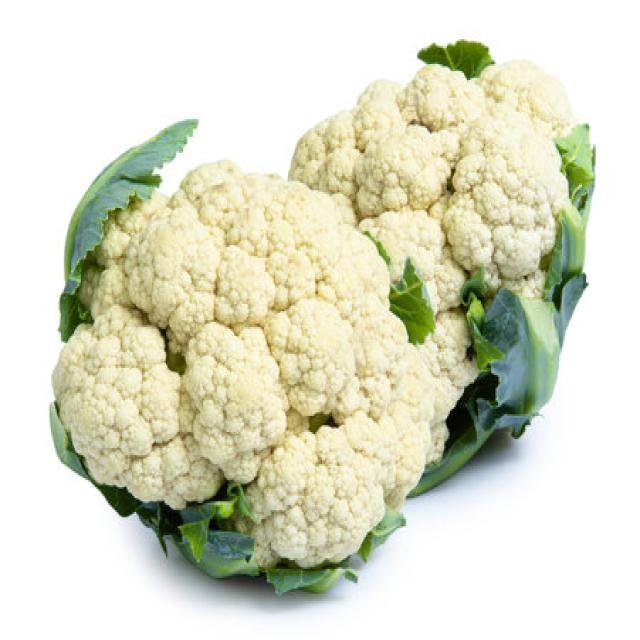Cauliflower: (52, 151, 431, 558), (289, 37, 603, 383)
